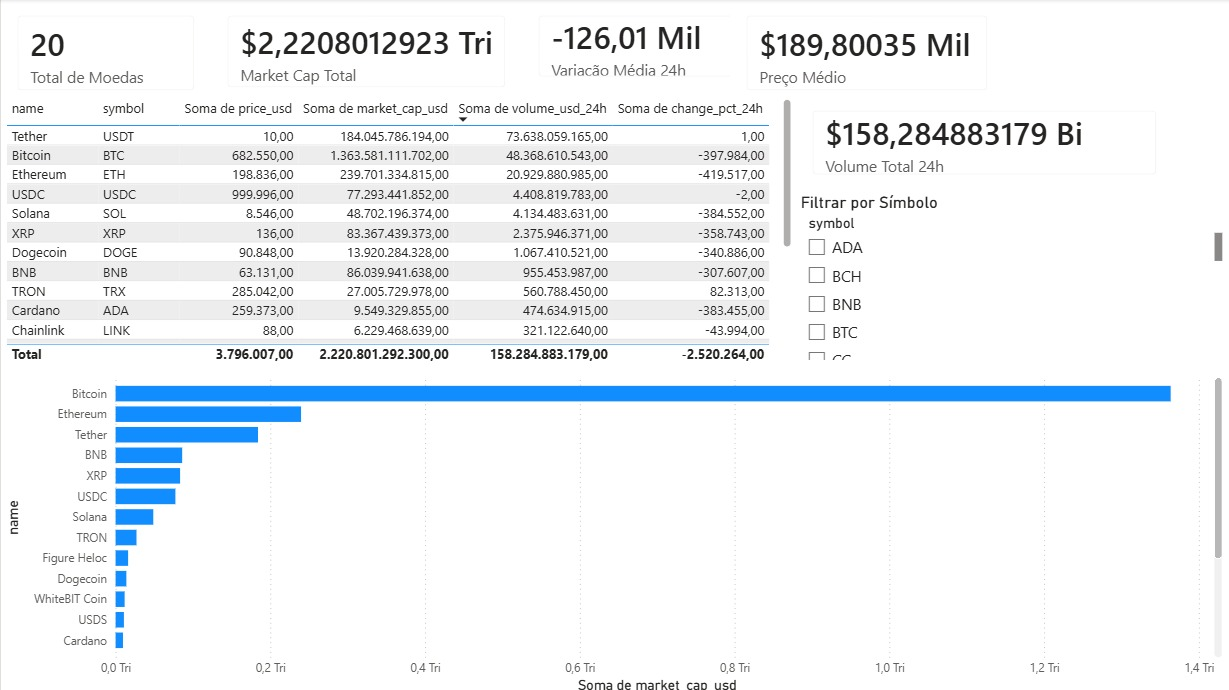

The dashboard page shown, as its layout file describes it:
{"tool":"powerbi","page":{"name":"Página 1","canvas":[1280,720],"ordinal":0},"visuals":[{"type":"cardVisual","fields":{"Data":["crypto_processed.Average Change 24h"]},"box":[536.5,0,311,97.8],"z":0},{"type":"cardVisual","fields":{"Data":["crypto_processed.Average Price"]},"box":[750.7,0,282.2,111.2],"z":1},{"type":"cardVisual","fields":{"Data":["crypto_processed.Total Coins"]},"box":[0,0,216.3,111.2],"z":2},{"type":"cardVisual","fields":{"Data":["crypto_processed.Total Market Cap"]},"box":[216.3,0,320.3,108.1],"z":3},{"type":"cardVisual","fields":{"Data":["crypto_processed.Total Volume 24h"]},"box":[818.7,97.8,388.2,100.9],"z":4},{"type":"clusteredBarChart","fields":{"Category":["crypto_processed.name"],"Y":["Sum(crypto_processed.market_cap_usd)"]},"box":[0,376.9,1262.5,342.9],"z":5},{"type":"tableEx","fields":{"Values":["crypto_processed.name","crypto_processed.symbol","Sum(crypto_processed.price_usd)","Sum(crypto_processed.market_cap_usd)","Sum(crypto_processed.volume_usd_24h)","Sum(crypto_processed.change_pct_24h)"]},"box":[0,97.8,818.7,282.2],"z":6},{"type":"slicer","title":"Filtrar por Símbolo","fields":{"Values":["crypto_processed.symbol"]},"box":[818.7,198.7,443.8,178.1],"z":7}]}

Visuals, with their boxes in screenshot pixels (x1, y1, x2, y2), scaled from the page's 1280x720 canvas onto the 1229x690 screenshot:
cardVisual - crypto_processed.Average Change 24h: bbox(515, 0, 814, 94)
cardVisual - crypto_processed.Average Price: bbox(721, 0, 992, 107)
cardVisual - crypto_processed.Total Coins: bbox(0, 0, 208, 107)
cardVisual - crypto_processed.Total Market Cap: bbox(208, 0, 515, 104)
cardVisual - crypto_processed.Total Volume 24h: bbox(786, 94, 1159, 190)
clusteredBarChart - crypto_processed.name x Sum(crypto_processed.market_cap_usd): bbox(0, 361, 1212, 689)
tableEx - crypto_processed.name x crypto_processed.symbol: bbox(0, 94, 786, 364)
"Filtrar por Símbolo" slicer: bbox(786, 190, 1212, 361)
